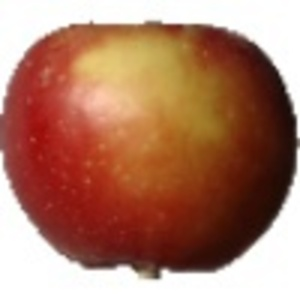maçã braeburn: (1, 21, 300, 275)
